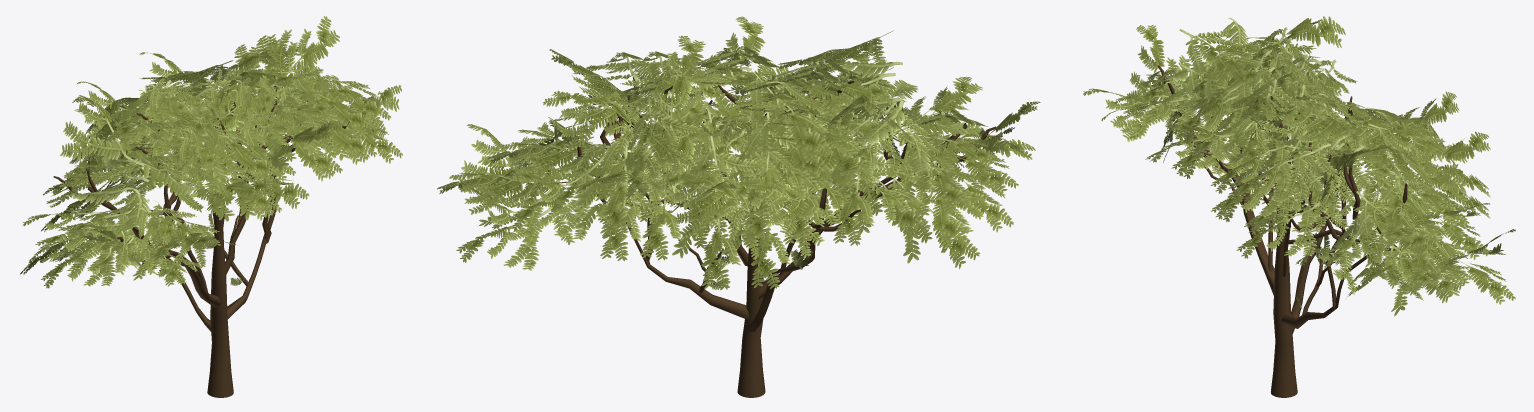
The model's file is BoomUnityTry.fbx.
3 views of the same model, side by side, from view 1: azimuth 30°, elevation 25°; view 2: azimuth 150°, elevation 25°; view 3: azimuth 270°, elevation 25° (orthographic). The views are drawn at different scales.
Visible parts, largest first — view 1: polySurface157; view 2: polySurface157; view 3: polySurface157.
Boxes of the visible parts, box(x1,y1,x2,y2) form: polySurface157: box(20, 16, 402, 397); polySurface157: box(437, 16, 1040, 397); polySurface157: box(1083, 16, 1515, 397).
Bounding box in the file's own units: 5.62 × 3.95 × 4.79.
